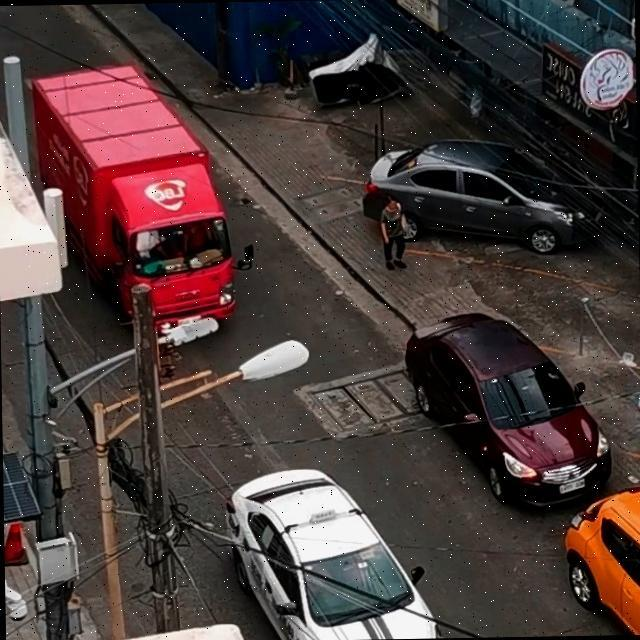Truck: (32, 60, 240, 332)
